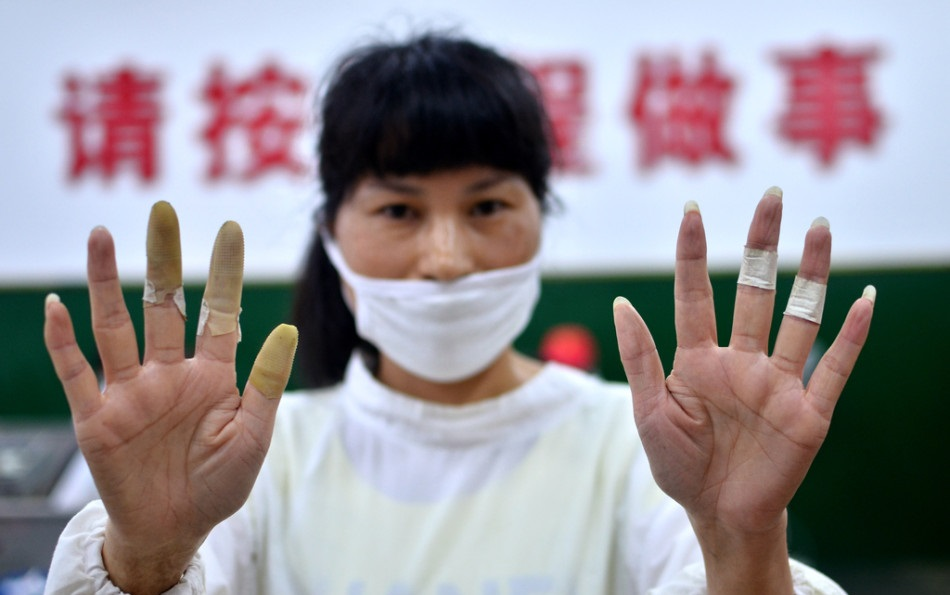face_mask: (335, 141, 545, 378)
